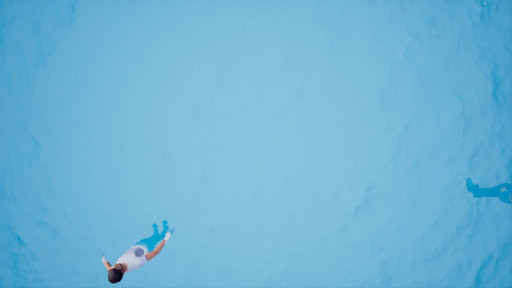person: (94, 222, 181, 281)
